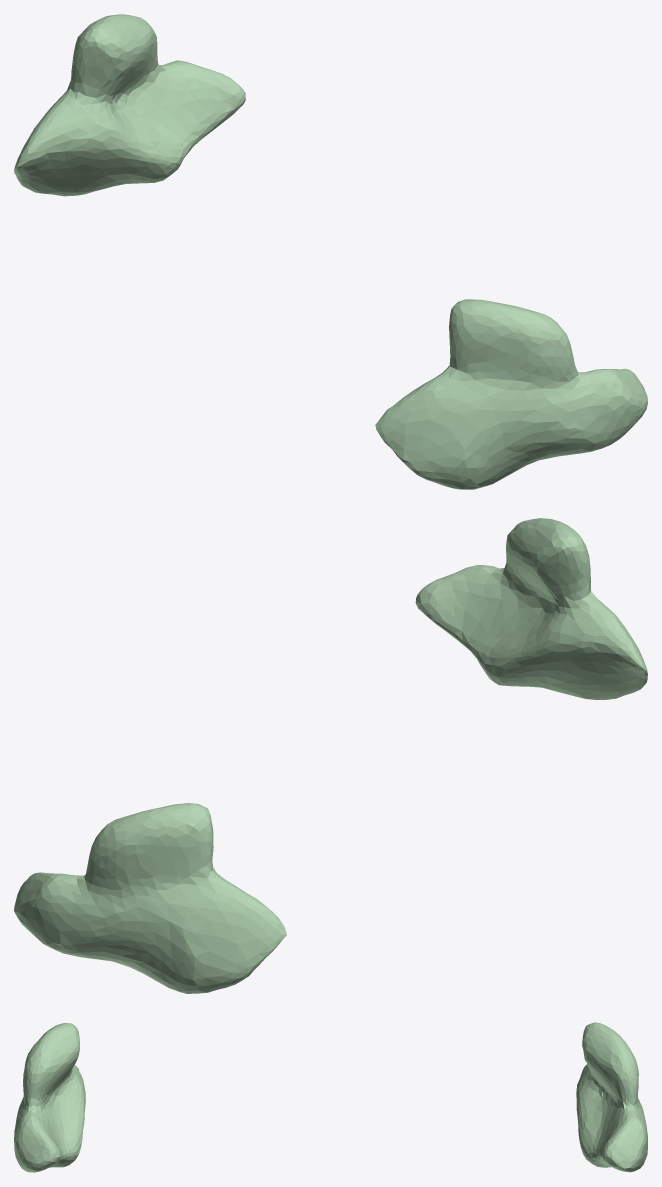
The picture shows the model from 3 angles, top to bottom: view 1: azimuth 30°, elevation 25°; view 2: azimuth 150°, elevation 25°; view 3: azimuth 270°, elevation 25°; orthographic projection. The views are drawn at different scales.
Visible parts, largest first — view 1: 295.obj; view 2: 295.obj; view 3: 295.obj.
Part boxes in pixels (x1=…): 295.obj: x1=14, y1=14, x2=647, y2=489; 295.obj: x1=14, y1=518, x2=647, y2=993; 295.obj: x1=14, y1=1022, x2=647, y2=1172.
Size of the model in its own units: 2382 by 1605 by 7408.
